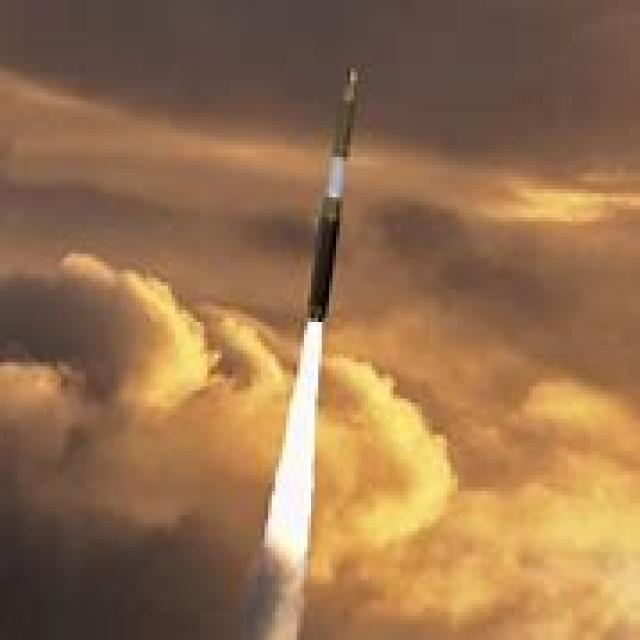missile: (305, 54, 365, 333)
